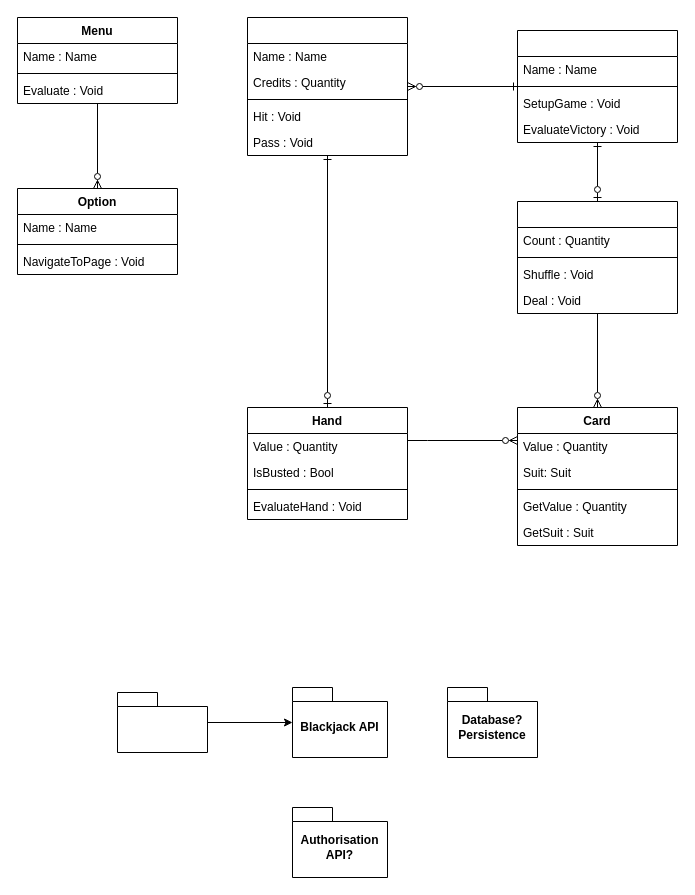
Some shapes in this 695 by 895 pixel diagram are drawn without their labels. The box of each missing label's shape, as (x1, y1, x2, y2) in pixels:
Dealer: (516, 30, 678, 142)
Deck: (516, 200, 678, 314)
GUI: (116, 692, 208, 752)
Player: (246, 16, 408, 156)
